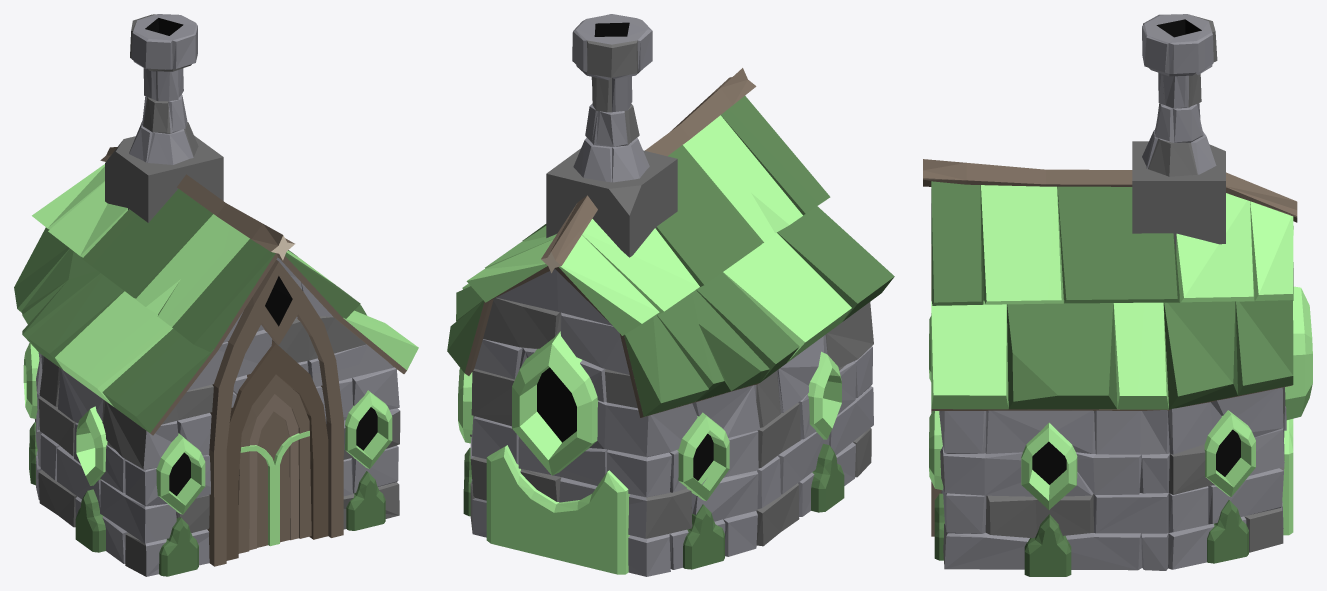
File: House 2.fbx
The picture shows the model from 3 angles, left to right: view 1: azimuth 30°, elevation 25°; view 2: azimuth 150°, elevation 25°; view 3: azimuth 270°, elevation 25°; orthographic projection. The views are drawn at different scales.
Parts seen in each view (by area): view 1: bakkery; view 2: bakkery; view 3: bakkery.
Part boxes in pixels (x1,y1,x2,y2): bakkery: (14,14,418,576); bakkery: (447,14,894,576); bakkery: (923,14,1312,576).
Bounding box in the file's own units: 521 × 772 × 574.
